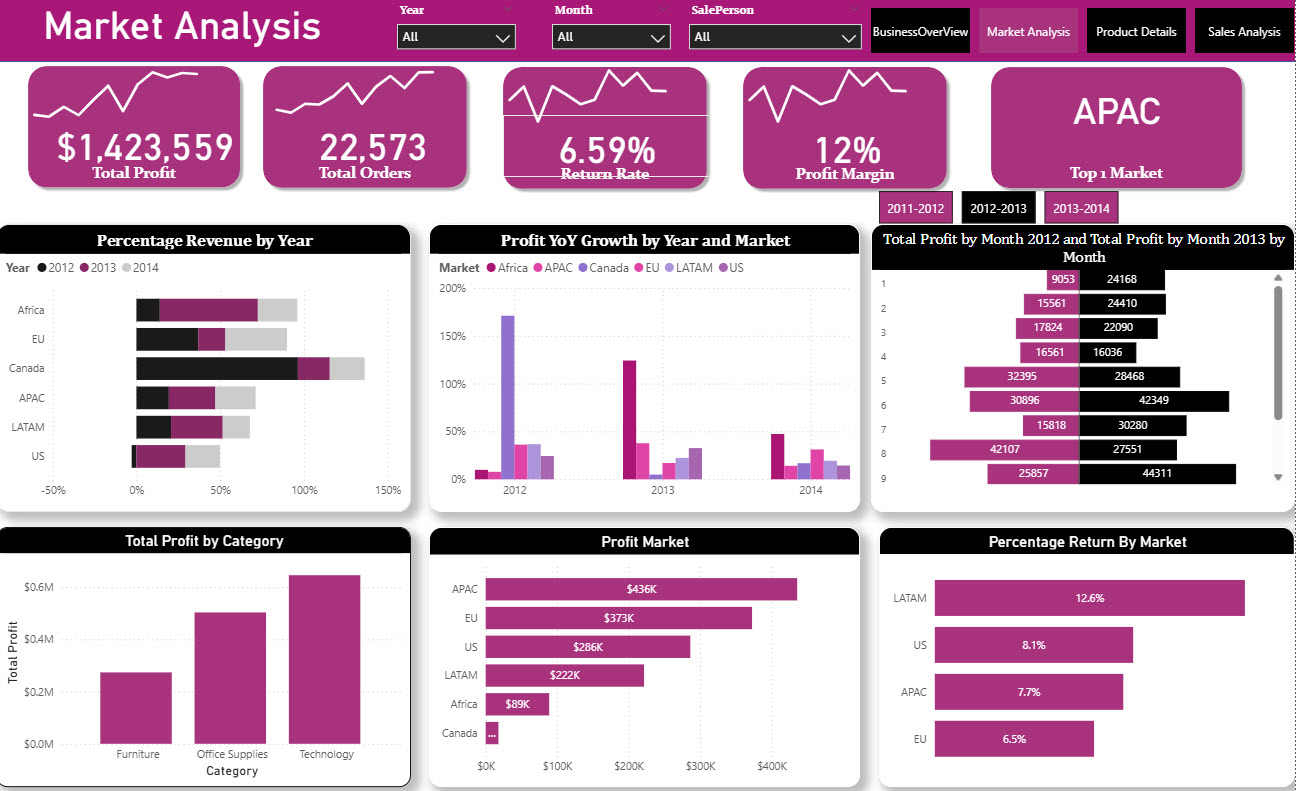

This screenshot's page, from the dashboard's own definition file:
{"tool":"powerbi","page":{"name":"Market Analysis","canvas":[1443,900],"ordinal":1},"visuals":[{"type":"shape","box":[28.5,68.6,249.1,148.4],"z":0,"group":"g1"},{"type":"shape","box":[290.5,69.4,239.9,148.8],"z":0,"group":"g2"},{"type":"shape","box":[556.8,69.7,239.9,148.8],"z":0,"group":"g5"},{"type":"shape","box":[823,69.7,239.9,148.8],"z":0,"group":"g4"},{"type":"shape","box":[1098.9,70,292.2,147.8],"z":0,"group":"g3"},{"type":"clusteredBarChart","title":"Percentage Return By Market","fields":{"Y":["Orders.%Returns"],"Category":["Orders.Market"]},"box":[981.1,587.8,462.2,288.9],"z":0},{"type":"card","fields":{"Values":["Orders.Top Company Sales"]},"box":[1102.4,86.7,286.7,68.9],"z":1000,"group":"g3"},{"type":"card","fields":{"Values":["Orders.Total Profit"]},"box":[40.8,126.1,249.2,68.8],"z":1000,"group":"g1"},{"type":"card","fields":{"Values":["Orders.Total Order"]},"box":[303.2,126.6,231.5,68.8],"z":1000,"group":"g2"},{"type":"card","fields":{"Values":["Orders.Percentage Return"]},"box":[563.1,129.4,231.2,68.8],"z":1000,"group":"g5"},{"type":"card","fields":{"Values":["Orders.Profit Margin"]},"box":[829.3,129.4,231.2,68.8],"z":1000,"group":"g4"},{"type":"clusteredColumnChart","fields":{"Y":["Dim_Date.Profit YoY"],"Category":["Dim_Date.Year"],"Series":["Orders.Market"]},"box":[481.1,251.1,478.9,320],"z":1000},{"type":"lineChart","fields":{"Category":["Dim_Date.Month"],"Y":["Orders.Total Profit"]},"box":[11,54,276.4,91],"z":2000,"group":"g1"},{"type":"lineChart","fields":{"Category":["Dim_Date.Month"],"Y":["Orders.Percentage Return"]},"box":[540,55,266.2,91.2],"z":2000,"group":"g5"},{"type":"lineChart","fields":{"Category":["Dim_Date.Month"],"Y":["Orders.Percentage Return"]},"box":[806.2,55,266.2,91.2],"z":2000,"group":"g4"},{"type":"lineChart","fields":{"Category":["Dim_Date.Month"],"Y":["Orders.Total Order"]},"box":[281.1,65.6,266.7,91.1],"z":2000,"group":"g2"},{"type":"clusteredBarChart","title":"Profit  Market","fields":{"Category":["Orders.Market"],"Y":["Orders.Total Profit"]},"box":[481.1,587.8,478.9,288.9],"z":2000},{"type":"shape","box":[0,0,1520,71.2],"z":3000},{"type":"textbox","box":[47.5,0,437.5,71.2],"z":4000},{"type":"barChart","title":"Percentage Revenue by Year","fields":{"Category":["Orders.Market"],"Y":["Dim_Date.Revenue YoY Growth %"],"Series":["Dim_Date.Year"]},"box":[0,251.1,461.1,320],"z":5000},{"type":"slicer","fields":{"Values":["Dim_Date.Year"]},"box":[435,0,152,61],"z":6000},{"type":"slicer","fields":{"Values":["Dim_Date.Month"]},"box":[608,0,152,61],"z":7000},{"type":"slicer","fields":{"Values":["Orders.SalePerson"]},"box":[760,0,212,61],"z":8000},{"type":"pageNavigator","box":[972,11,471,50],"z":9000},{"type":"group","id":"g1","title":"Group 5","box":[11,54,279,163],"z":10000},{"type":"group","id":"g2","title":"Group 5","box":[281.1,65.6,266.7,152.2],"z":11000},{"type":"group","id":"g3","title":"Group 5","box":[1098.9,70,292.2,147.8],"z":12000},{"type":"TornadoChart1452517688218","fields":{"Values":["Profit.Total Profit by Month 2012","Profit.Total Profit by Month 2013"],"Category":["Dim_Date.Month"]},"box":[972.2,251.1,471.1,320],"z":14000},{"type":"bookmarkNavigator","box":[981.1,214.4,266.7,36.7],"z":16000},{"type":"clusteredColumnChart","fields":{"Category":["Orders.Category"],"Y":["Orders.Total Profit"]},"box":[0,587.8,461.1,288.9],"z":17000},{"type":"group","id":"g4","title":"Group 5","box":[806.2,55,266.2,163.8],"z":18000},{"type":"group","id":"g5","title":"Group 5","box":[540,55,266.2,163.8],"z":19000}]}

Visuals, with their boxes in screenshot pixels (x1, y1, x2, y2), scaled from the page's 1443x900 canvas onto the 1296x791 screenshot:
shape: [26,60,249,191]
shape: [261,61,476,192]
shape: [500,61,716,192]
shape: [739,61,955,192]
shape: [987,62,1249,191]
"Percentage Return By Market" clusteredBarChart: [881,517,1295,771]
card - Orders.Top Company Sales: [990,76,1248,137]
card - Orders.Total Profit: [37,111,260,171]
card - Orders.Total Order: [272,111,480,172]
card - Orders.Percentage Return: [506,114,713,174]
card - Orders.Profit Margin: [745,114,952,174]
clusteredColumnChart - Dim_Date.Profit YoY x Dim_Date.Year: [432,221,862,502]
lineChart - Dim_Date.Month x Orders.Total Profit: [10,47,258,127]
lineChart - Dim_Date.Month x Orders.Percentage Return: [485,48,724,128]
lineChart - Dim_Date.Month x Orders.Percentage Return: [724,48,963,128]
lineChart - Dim_Date.Month x Orders.Total Order: [252,58,492,138]
"Profit  Market" clusteredBarChart: [432,517,862,771]
shape: [0,0,1295,63]
textbox: [43,0,436,63]
"Percentage Revenue by Year" barChart: [0,221,414,502]
slicer - Dim_Date.Year: [391,0,527,54]
slicer - Dim_Date.Month: [546,0,683,54]
slicer - Orders.SalePerson: [683,0,873,54]
pageNavigator: [873,10,1295,54]
"Group 5" group: [10,47,260,191]
"Group 5" group: [252,58,492,191]
"Group 5" group: [987,62,1249,191]
TornadoChart1452517688218 - Profit.Total Profit by Month 2012 x Profit.Total Profit by Month 2013: [873,221,1295,502]
bookmarkNavigator: [881,188,1121,221]
clusteredColumnChart - Orders.Category x Orders.Total Profit: [0,517,414,771]
"Group 5" group: [724,48,963,192]
"Group 5" group: [485,48,724,192]
